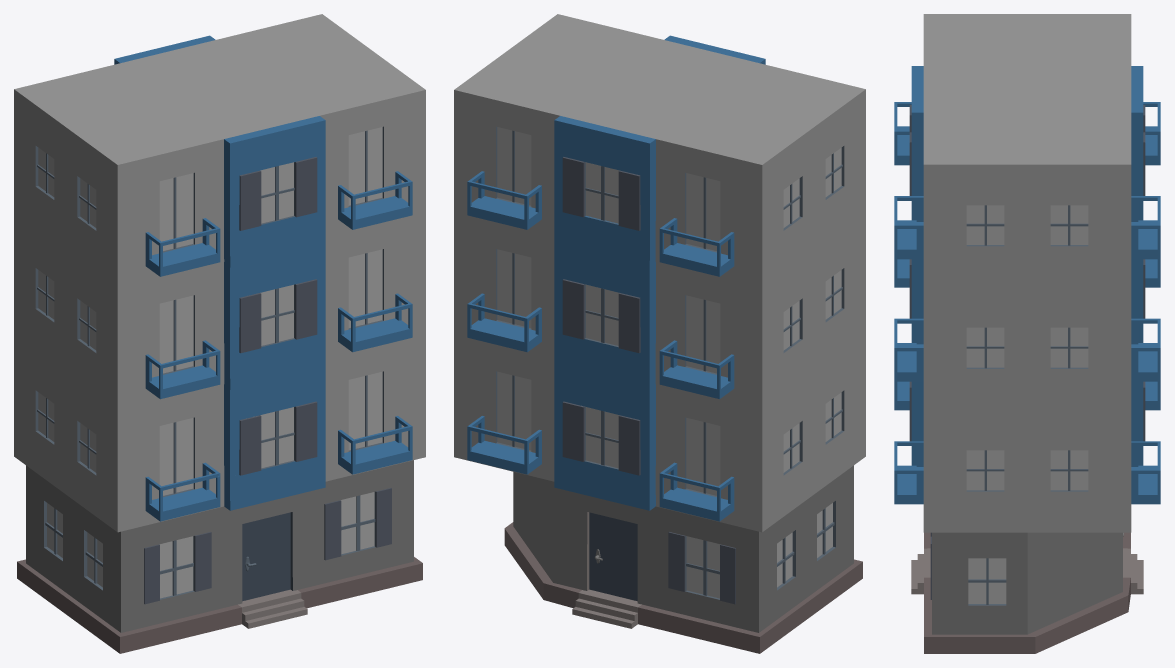
Rendered from HLD-House Blue.fbx.
3 views of the same model, side by side, from view 1: azimuth 30°, elevation 25°; view 2: azimuth 150°, elevation 25°; view 3: azimuth 270°, elevation 25° (orthographic).
Visible parts, largest first — view 1: immeuble; view 2: immeuble; view 3: immeuble.
Boxes of the visible parts, x1=… form: immeuble: x1=14, y1=14, x2=425, y2=653; immeuble: x1=454, y1=14, x2=865, y2=653; immeuble: x1=894, y1=14, x2=1160, y2=653.
Bounding box in the file's own units: 4482 × 6804 × 3346.
